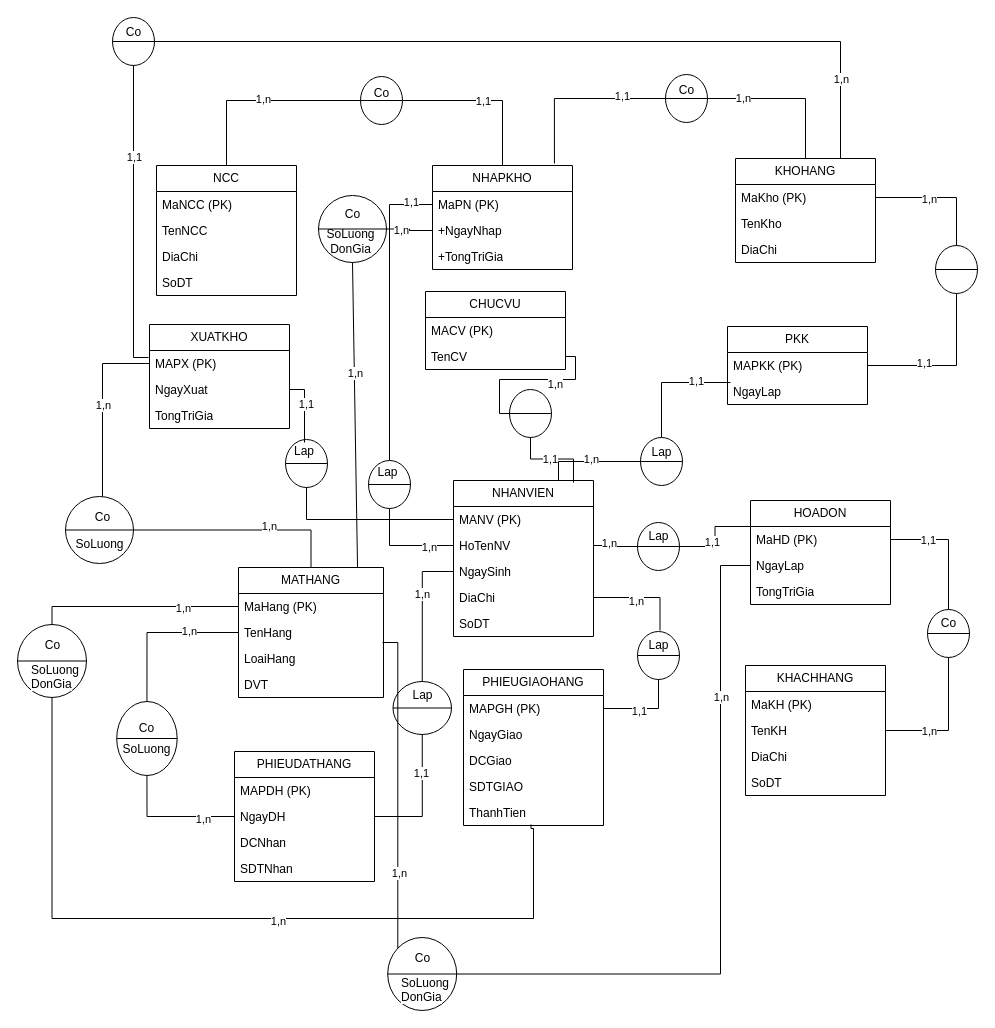
This 995x1028 diagram has some shape labels left out. The centre of each missing label's shape, as x and y in pixels:
"Lam" belongs at point 530,413.
"Thuoc" belongs at point 956,269.
